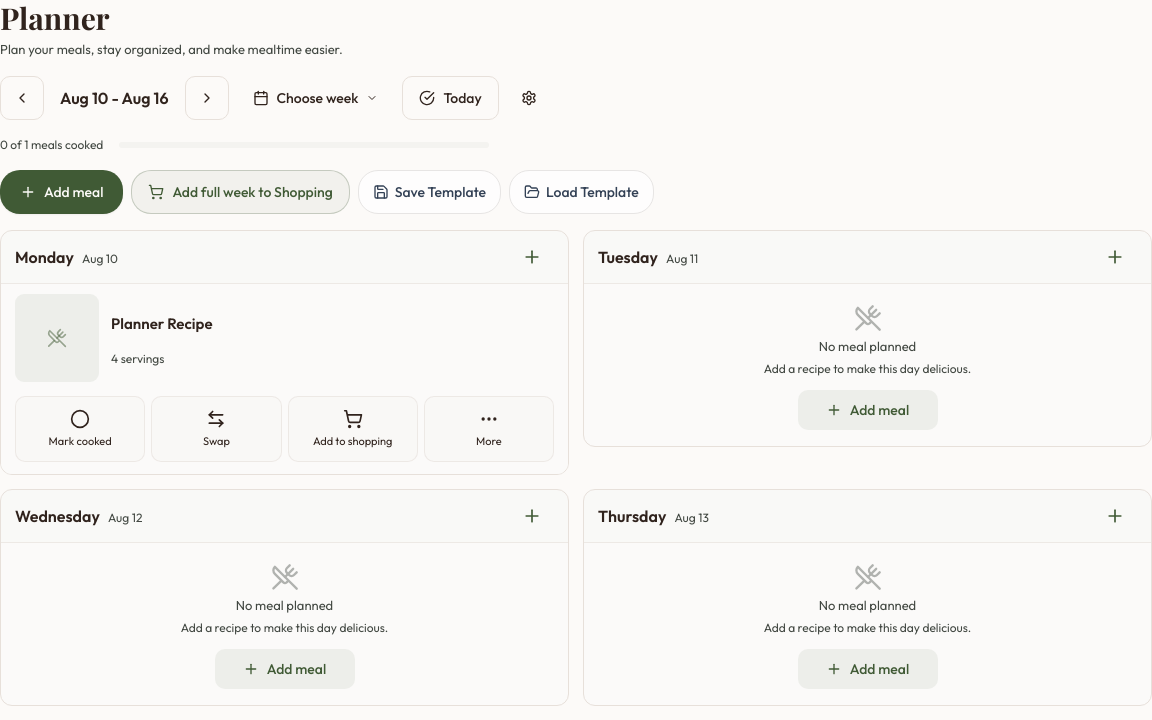
Test case: MealPlanner interactions › closes the swap dialog when browser navigation changes the displayed week
Click the button titled "Swap recipe". click: (216, 428)
box: [151,396,282,462]
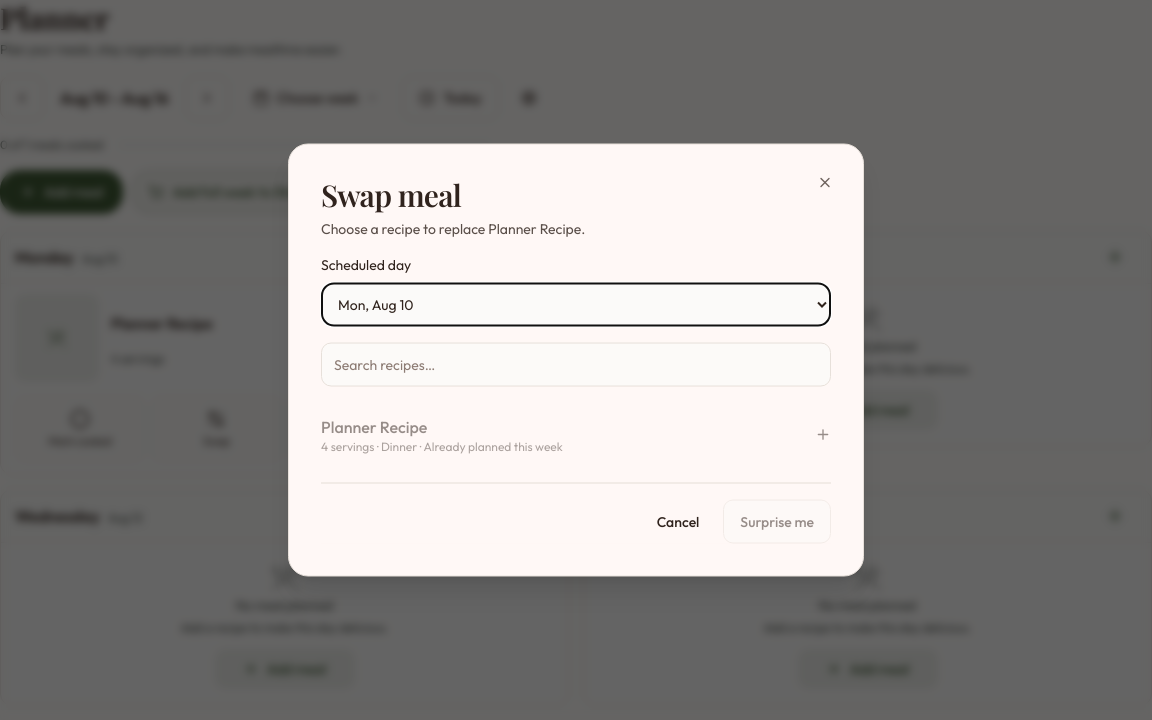
Check: the heading "Swap meal" is shown, box [321,174,461,214]
